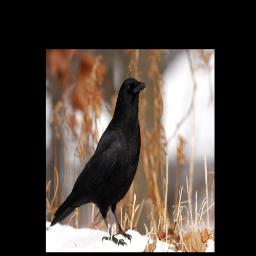Crow: (50, 74, 148, 247)
